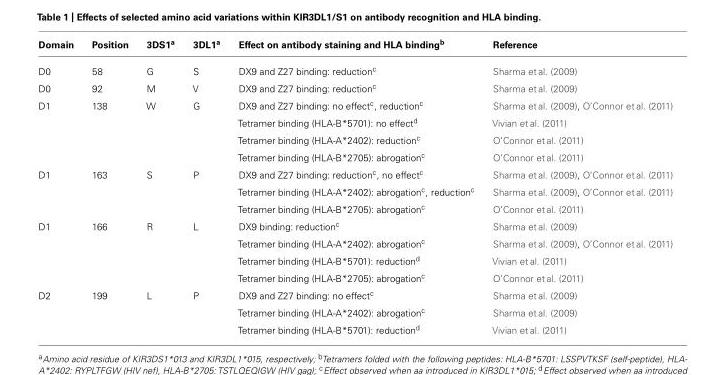table: (37, 36, 672, 335)
table column: (228, 36, 482, 335), (482, 36, 672, 335), (82, 36, 136, 335), (136, 36, 182, 335), (182, 36, 228, 335), (37, 36, 82, 335)
table column header: (37, 36, 672, 56)
table row: (37, 56, 672, 78), (37, 36, 672, 56), (37, 95, 672, 113), (37, 164, 672, 182), (37, 233, 672, 251), (37, 302, 672, 320), (37, 78, 672, 95), (37, 113, 672, 130), (37, 130, 672, 147), (37, 147, 672, 164), (37, 182, 672, 199), (37, 199, 672, 216), (37, 216, 672, 233), (37, 251, 672, 268), (37, 268, 672, 285), (37, 285, 672, 302), (37, 320, 672, 335)
table spanning cell: (37, 95, 82, 164), (37, 216, 82, 285), (37, 164, 82, 216), (37, 285, 82, 335)
